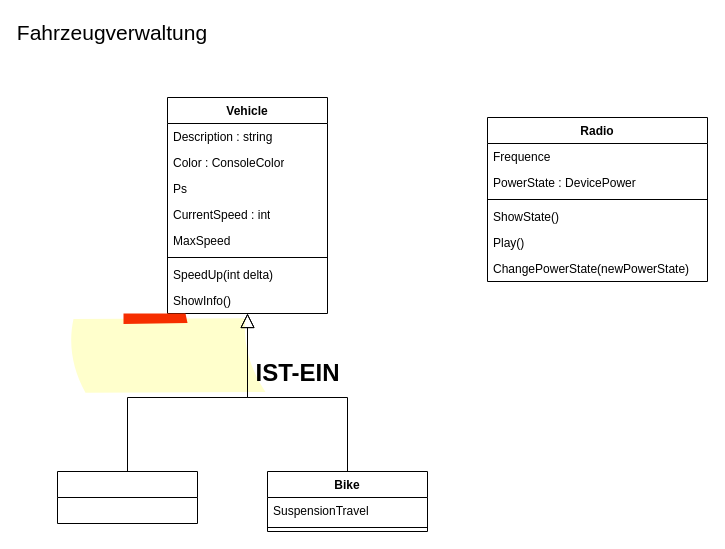
The diagram is 725 pixels wide and 549 high, and some of its shapes have lost their labels. Each missing label, with the centre of its shape:
Car: the point at 127,497
öffentliche std. Schnittstelle: the point at 167,353
